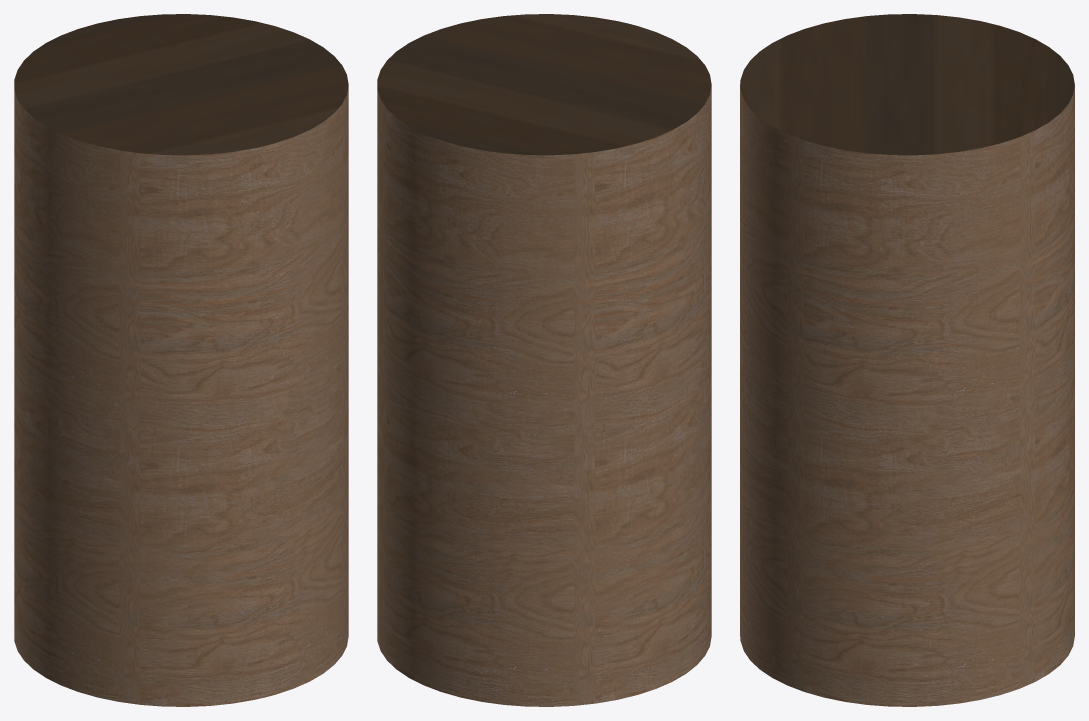
Rendered from peg.glb.
3 views of the same model, side by side, from view 1: azimuth 30°, elevation 25°; view 2: azimuth 150°, elevation 25°; view 3: azimuth 270°, elevation 25° (orthographic).
Parts seen in each view (by area): view 1: SM_Peg; view 2: SM_Peg; view 3: SM_Peg.
Boxes of the visible parts, box(x1,y1,x2,y2) form: SM_Peg: box(14, 14, 348, 706); SM_Peg: box(377, 14, 711, 706); SM_Peg: box(740, 14, 1074, 706).
Bounding box in the file's own units: 0.022 × 0.04 × 0.022.
Materials: 3 (2 with a texture image).
